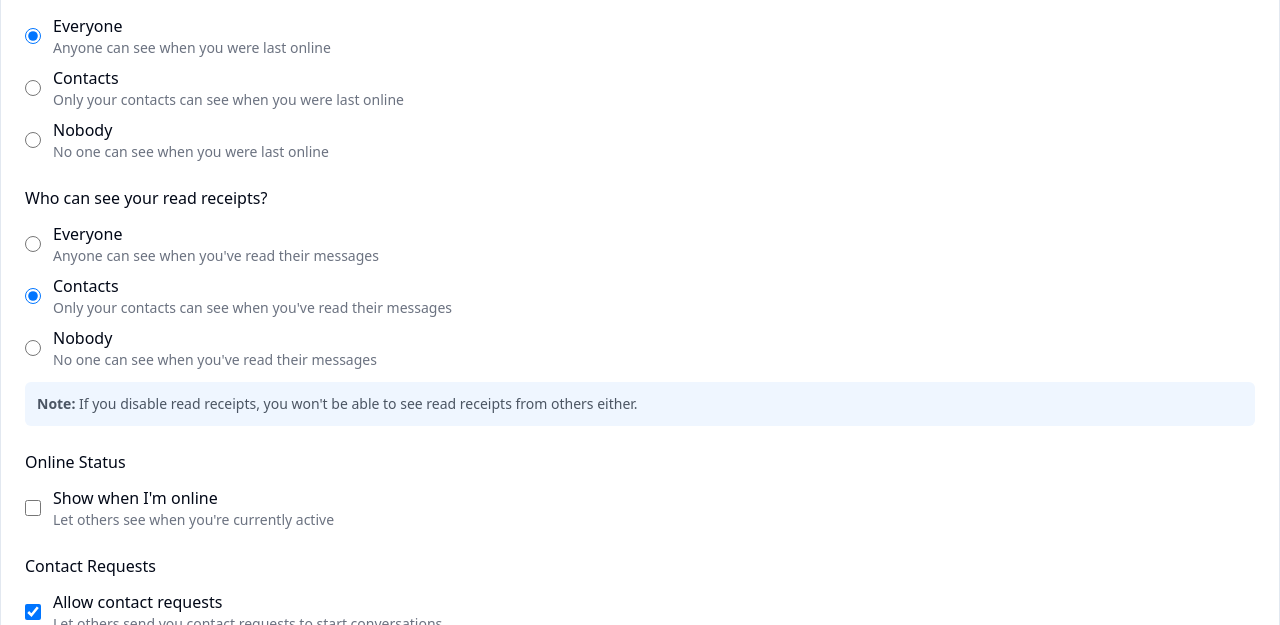
Scenario: PrivacySettings › enables save button when changes are made
The width and height of the screenshot is (1280, 625).
Make a change
Click the radio button showing "nobody". click: x=33, y=140
box: [25,132,41,148]
(page scrolled)
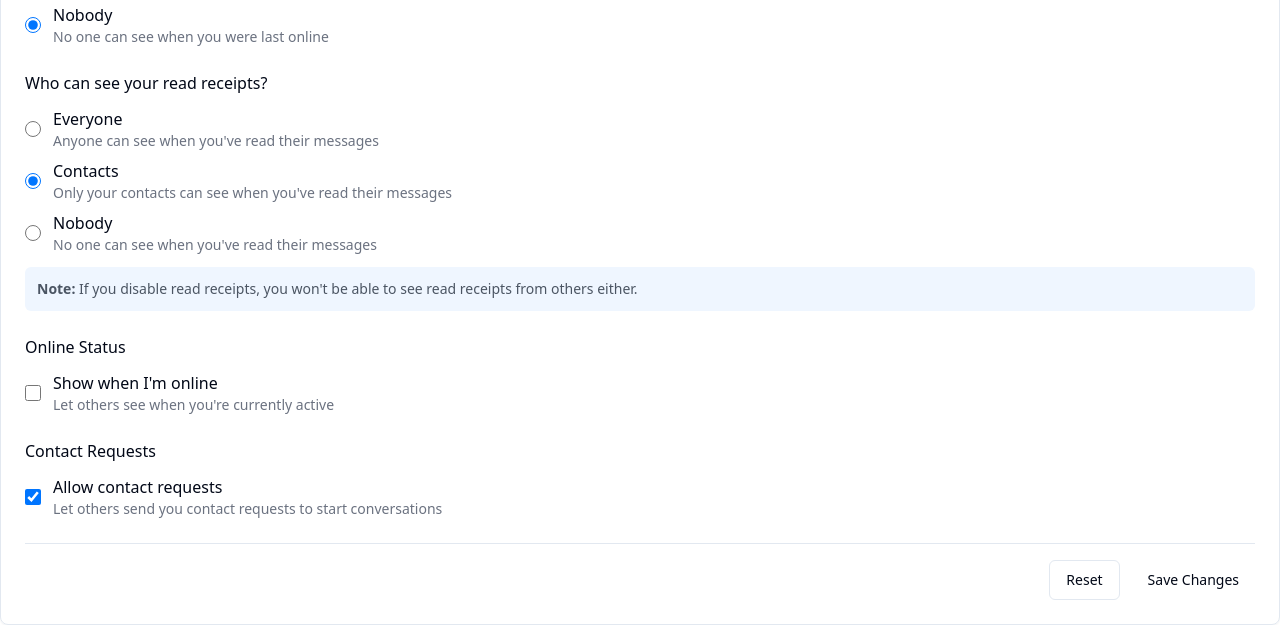
Expected: the button "Save Changes" is enabled, [1132,560,1255,600]
